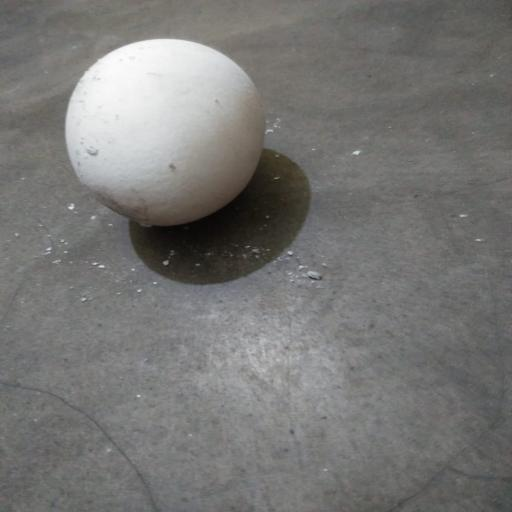telur: (57, 30, 275, 230)
